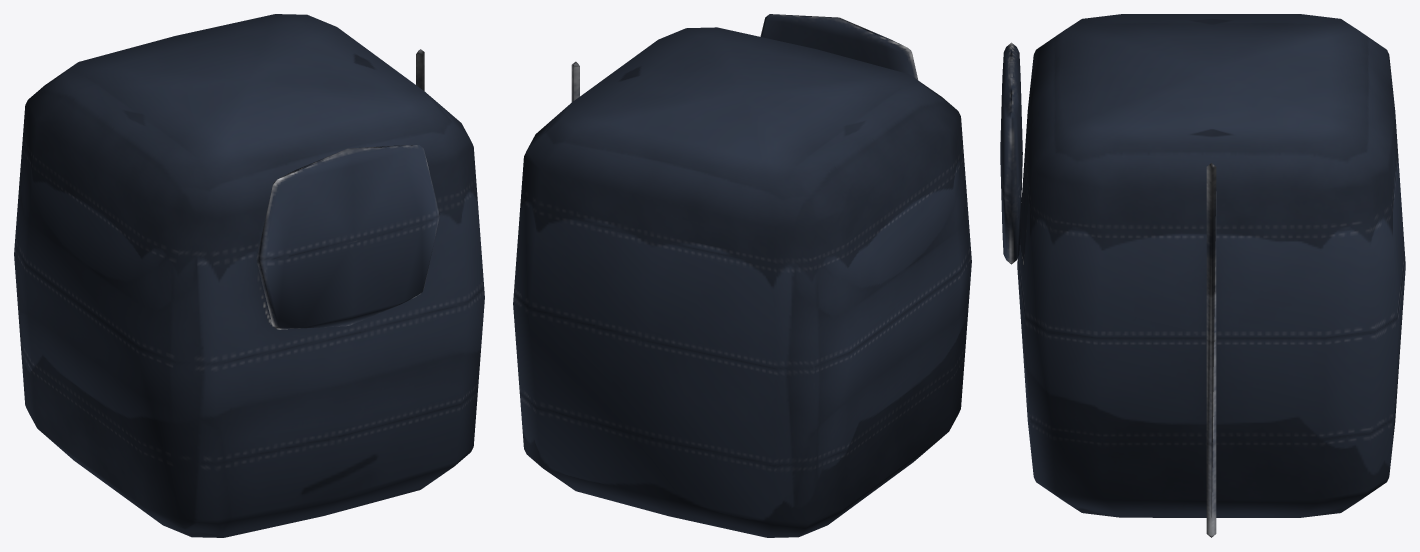
File: Maton_PantalonAbajoIzq.fbx
3 renders of one model, left to right at view 1: azimuth 30°, elevation 25°; view 2: azimuth 150°, elevation 25°; view 3: azimuth 270°, elevation 25°, orthographic. The views are drawn at different scales.
Visible parts, largest first — view 1: Maton_PantalonAbajoIzq; view 2: Maton_PantalonAbajoIzq; view 3: Maton_PantalonAbajoIzq.
Boxes of the visible parts, x1=… form: Maton_PantalonAbajoIzq: x1=14, y1=14, x2=484, y2=537; Maton_PantalonAbajoIzq: x1=513, y1=14, x2=971, y2=537; Maton_PantalonAbajoIzq: x1=1000, y1=14, x2=1405, y2=537.
Bounding box in the file's own units: 1.26 × 1.39 × 1.28.
